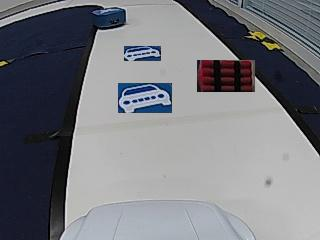prop: (93, 8, 126, 29)
